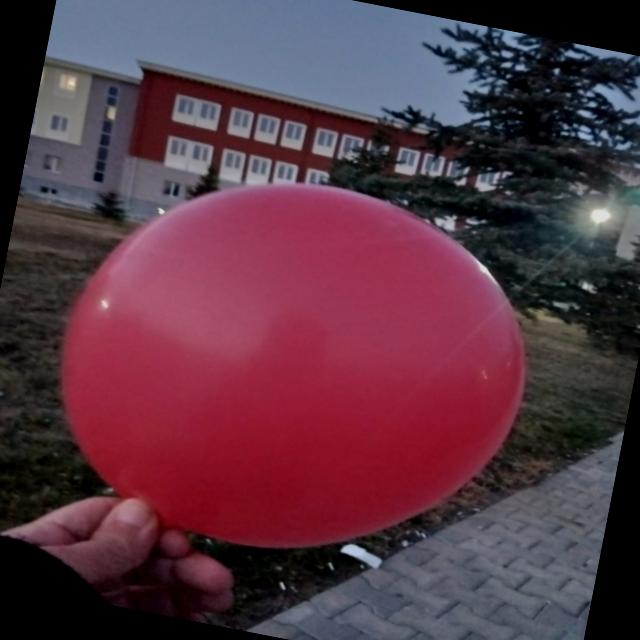balloon: (62, 184, 525, 548)
